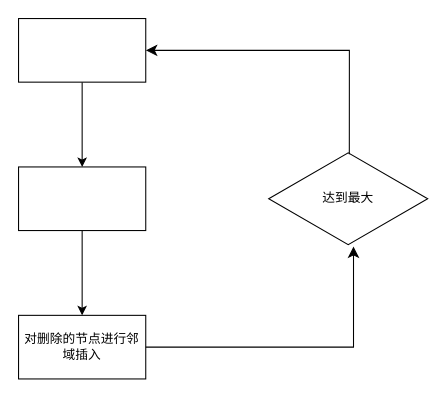
Some shapes in this 446 by 397 pixel diagram are drawn without their labels. The box of each missing label's shape, as (x1, y1, x2, y2) in pixels:
删除一点比例最差的节点: (17, 17, 146, 82)
将剩下的节点按顺序连接: (17, 166, 146, 231)
